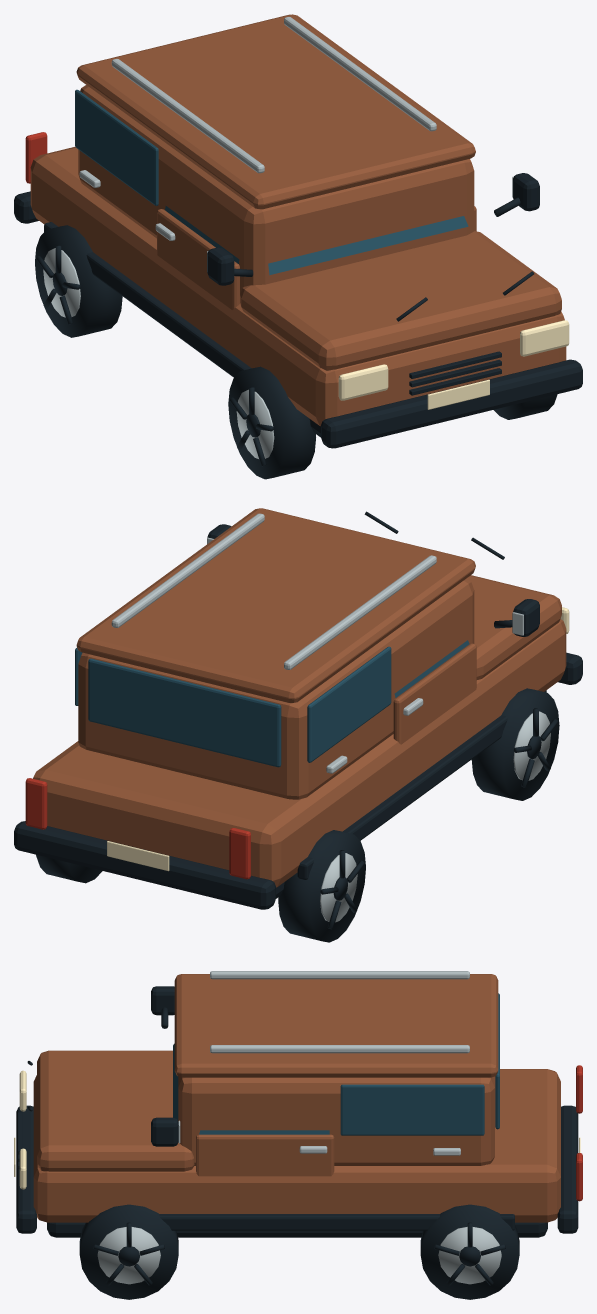
File: suv.glb
3 renders of one model, top to bottom at view 1: azimuth 30°, elevation 25°; view 2: azimuth 150°, elevation 25°; view 3: azimuth 270°, elevation 25°, orthographic. The views are drawn at different scales.
Parts seen in each view (by area): view 1: Vehicle_suv_Vehicle_Paint, Vehicle_suv_Tyres_And_Trim, Vehicle_suv_Blue_Glass, VehicleWheelFrontLeft_Tyres_And_Trim, VehicleWheelRearLeft_Tyres_And_Trim, Vehicle_suv_Brushed_Aluminium, Vehicle_suv_Headlights, DoorLeft_Vehicle_Paint, VehicleWheelFrontLeft_Brushed_Aluminium, VehicleWheelRearLeft_Brushed_Aluminium, VehicleWheelFrontRight_Tyres_And_Trim, Vehicle_suv_Rear_Lights; view 2: Vehicle_suv_Vehicle_Paint, Vehicle_suv_Blue_Glass, Vehicle_suv_Tyres_And_Trim, VehicleWheelRearLeft_Tyres_And_Trim, VehicleWheelFrontLeft_Tyres_And_Trim, Vehicle_suv_Brushed_Aluminium, DoorLeft_Vehicle_Paint, Vehicle_suv_Rear_Lights, VehicleWheelRearLeft_Brushed_Aluminium, VehicleWheelFrontLeft_Brushed_Aluminium, Vehicle_suv_Headlights, VehicleWheelRearRight_Tyres_And_Trim; view 3: Vehicle_suv_Vehicle_Paint, Vehicle_suv_Tyres_And_Trim, Vehicle_suv_Blue_Glass, DoorRight_Vehicle_Paint, VehicleWheelFrontRight_Tyres_And_Trim, VehicleWheelRearRight_Tyres_And_Trim, Vehicle_suv_Brushed_Aluminium, VehicleWheelRearRight_Brushed_Aluminium, VehicleWheelFrontRight_Brushed_Aluminium, Vehicle_suv_Headlights, Vehicle_suv_Rear_Lights, DoorRight_Blue_Glass.
Boxes of the visible parts, <box> form: Vehicle_suv_Vehicle_Paint: <box>30,14,566,426</box>; Vehicle_suv_Tyres_And_Trim: <box>14,173,582,448</box>; Vehicle_suv_Blue_Glass: <box>75,89,468,275</box>; VehicleWheelFrontLeft_Tyres_And_Trim: <box>228,366,315,479</box>; VehicleWheelRearLeft_Tyres_And_Trim: <box>35,225,122,337</box>; Vehicle_suv_Brushed_Aluminium: <box>79,17,513,271</box>; Vehicle_suv_Headlights: <box>338,320,569,409</box>; DoorLeft_Vehicle_Paint: <box>157,209,239,309</box>; VehicleWheelFrontLeft_Brushed_Aluminium: <box>236,389,274,458</box>; VehicleWheelRearLeft_Brushed_Aluminium: <box>43,248,80,317</box>; VehicleWheelFrontRight_Tyres_And_Trim: <box>494,394,557,419</box>; Vehicle_suv_Rear_Lights: <box>25,132,47,183</box>; Vehicle_suv_Vehicle_Paint: <box>33,508,566,887</box>; Vehicle_suv_Blue_Glass: <box>75,646,391,767</box>; Vehicle_suv_Tyres_And_Trim: <box>14,511,582,909</box>; VehicleWheelRearLeft_Tyres_And_Trim: <box>278,830,365,942</box>; VehicleWheelFrontLeft_Tyres_And_Trim: <box>471,688,559,800</box>; Vehicle_suv_Brushed_Aluminium: <box>111,513,523,773</box>; DoorLeft_Vehicle_Paint: <box>393,643,476,744</box>; Vehicle_suv_Rear_Lights: <box>25,778,250,879</box>; VehicleWheelRearLeft_Brushed_Aluminium: <box>320,853,357,922</box>; VehicleWheelFrontLeft_Brushed_Aluminium: <box>513,711,550,780</box>; Vehicle_suv_Headlights: <box>107,607,569,871</box>; VehicleWheelRearRight_Tyres_And_Trim: <box>36,854,102,883</box>; Vehicle_suv_Vehicle_Paint: <box>33,974,560,1222</box>; Vehicle_suv_Tyres_And_Trim: <box>16,986,578,1237</box>; Vehicle_suv_Blue_Glass: <box>173,993,499,1135</box>; DoorRight_Vehicle_Paint: <box>196,1134,334,1176</box>; VehicleWheelFrontRight_Tyres_And_Trim: <box>79,1204,178,1299</box>; VehicleWheelRearRight_Tyres_And_Trim: <box>420,1204,519,1299</box>; Vehicle_suv_Brushed_Aluminium: <box>178,971,469,1155</box>; VehicleWheelRearRight_Brushed_Aluminium: <box>438,1226,501,1284</box>; VehicleWheelFrontRight_Brushed_Aluminium: <box>97,1227,160,1284</box>; Vehicle_suv_Headlights: <box>14,1070,580,1189</box>; Vehicle_suv_Rear_Lights: <box>576,1065,582,1201</box>; DoorRight_Blue_Glass: <box>199,1130,329,1134</box>.
Bounding box in the file's own units: 2.84 × 2.22 × 4.94.
